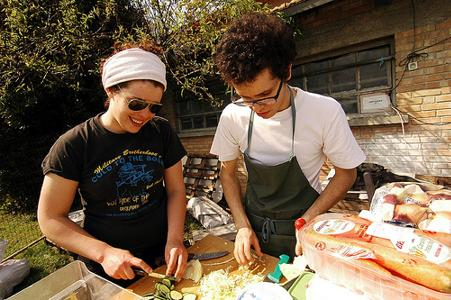person: (32, 46, 191, 286)
